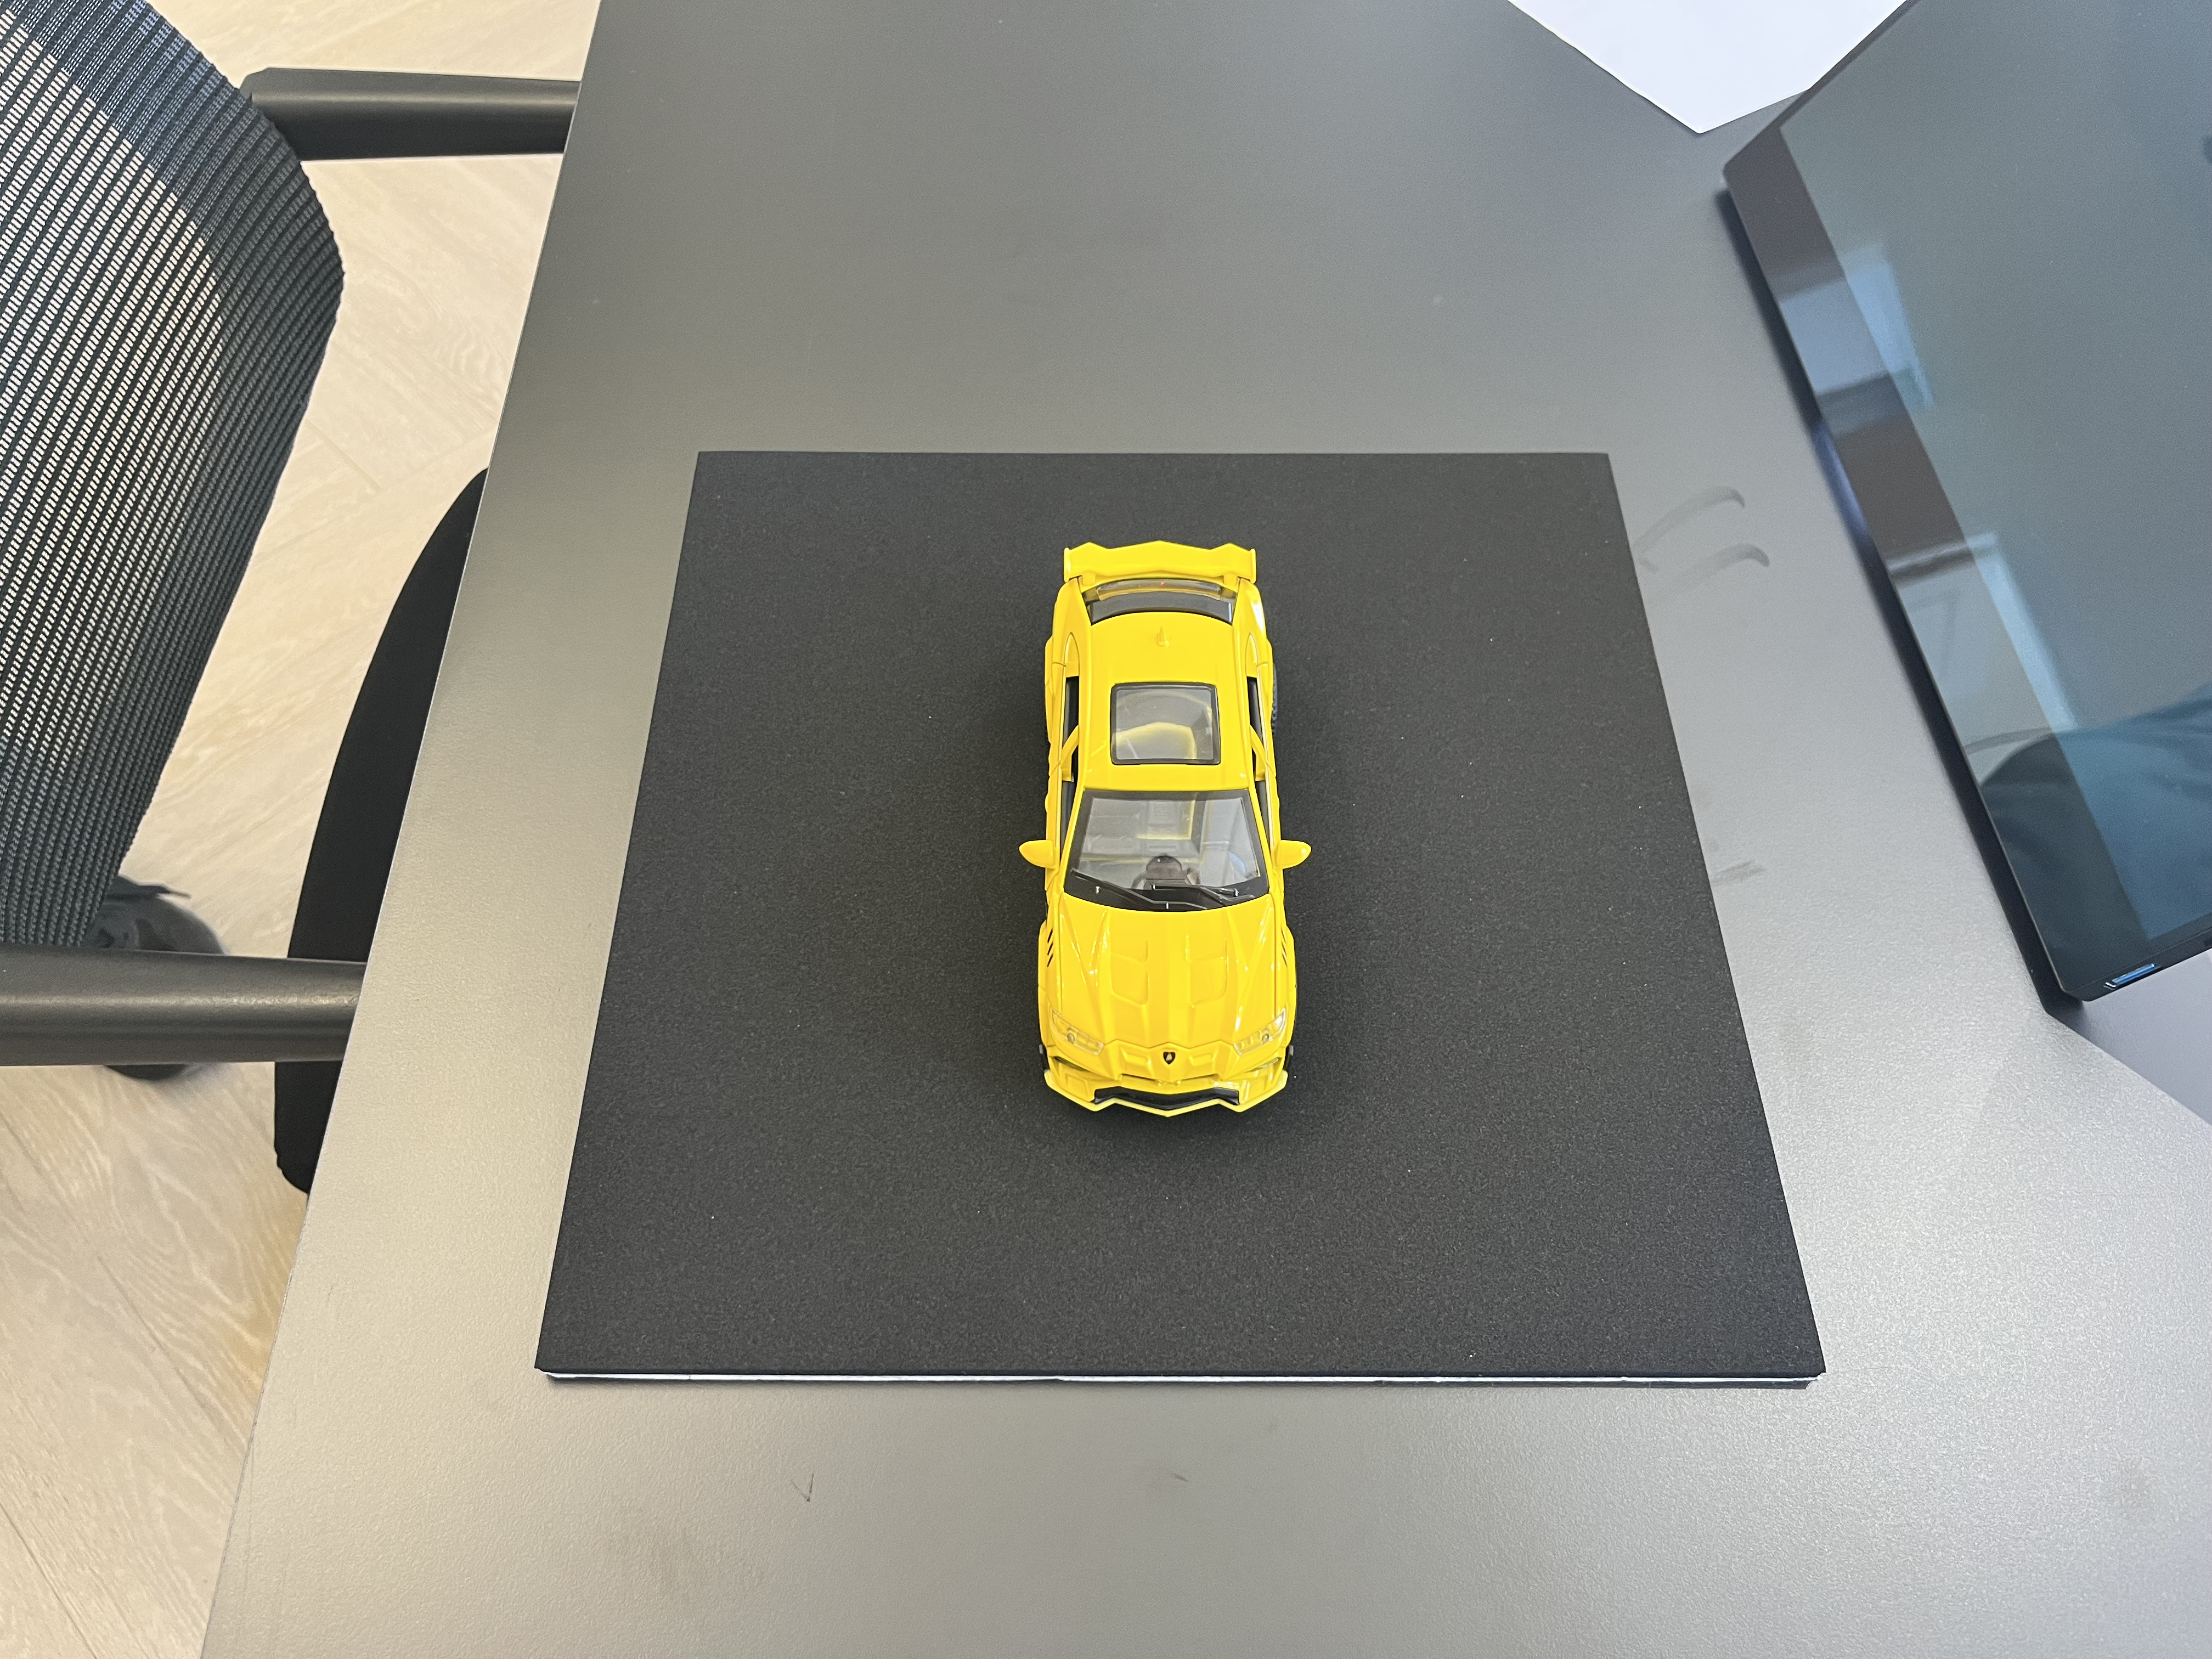lambo: (1014, 537, 1310, 1115)
